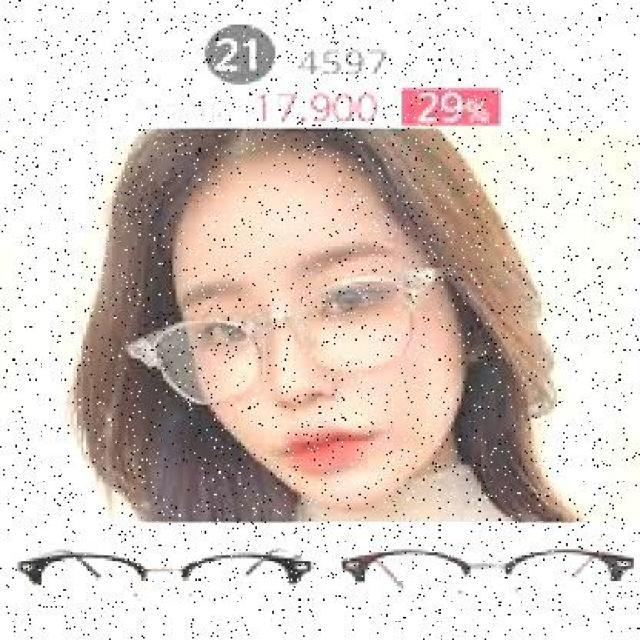glasses: (140, 255, 434, 403)
